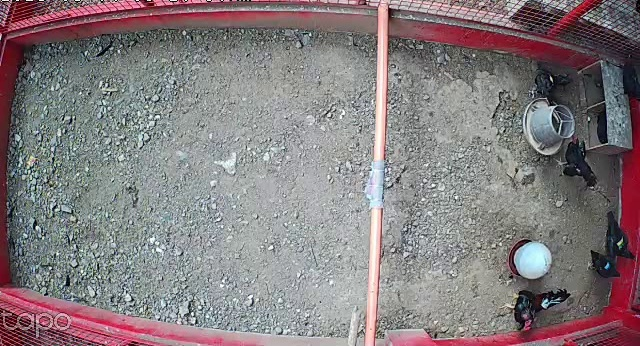Chicken: (548, 131, 607, 194), (600, 210, 639, 264), (526, 67, 572, 105), (613, 53, 640, 110), (585, 248, 625, 279)
Rooster: (499, 282, 569, 333)
Saddle_Color_Blue: (604, 261, 612, 270)
Saddle_Color_YellowGreen: (617, 238, 626, 248)
